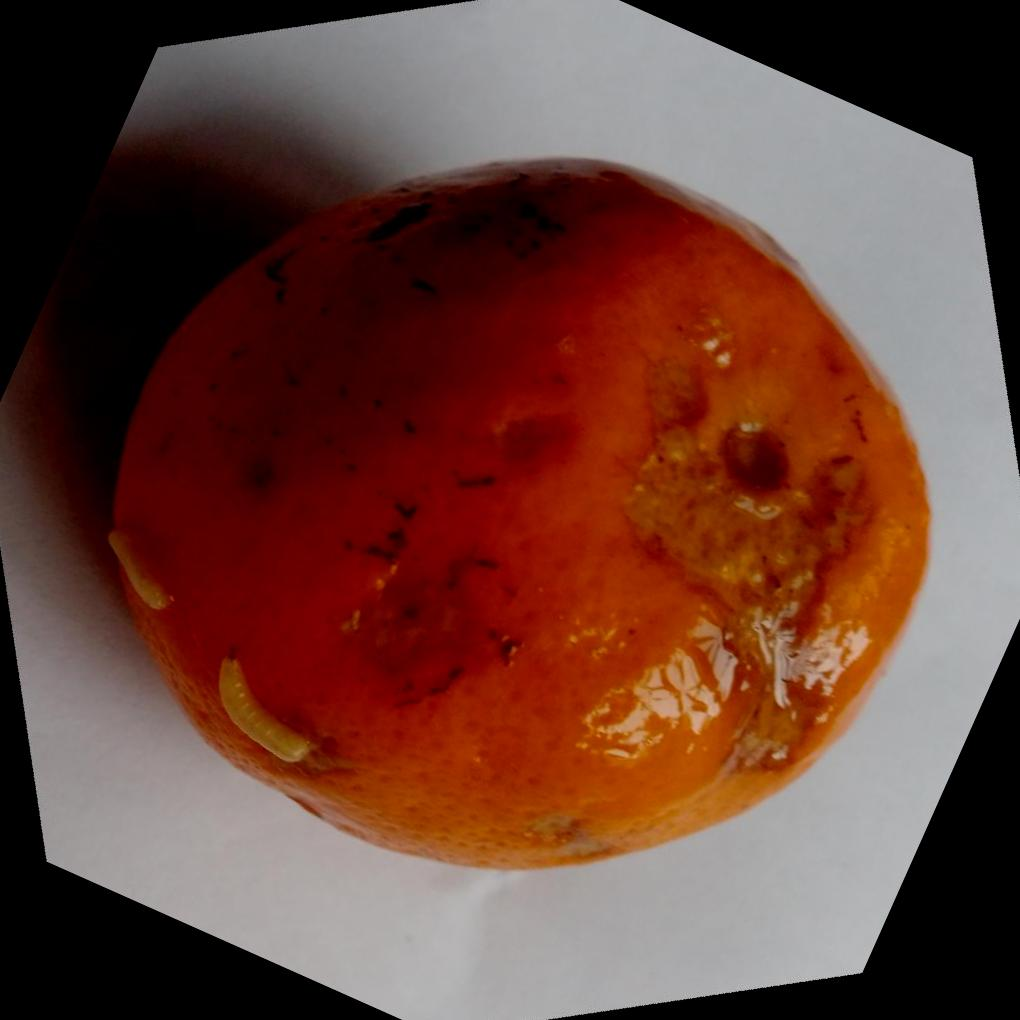FreshOrange: (102, 158, 932, 876)
